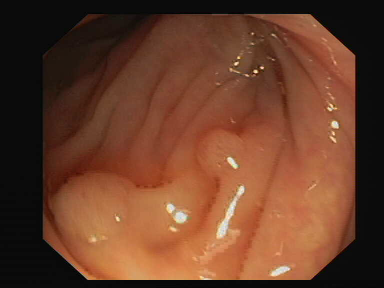polyp: (46, 147, 157, 257), (181, 114, 260, 181)
